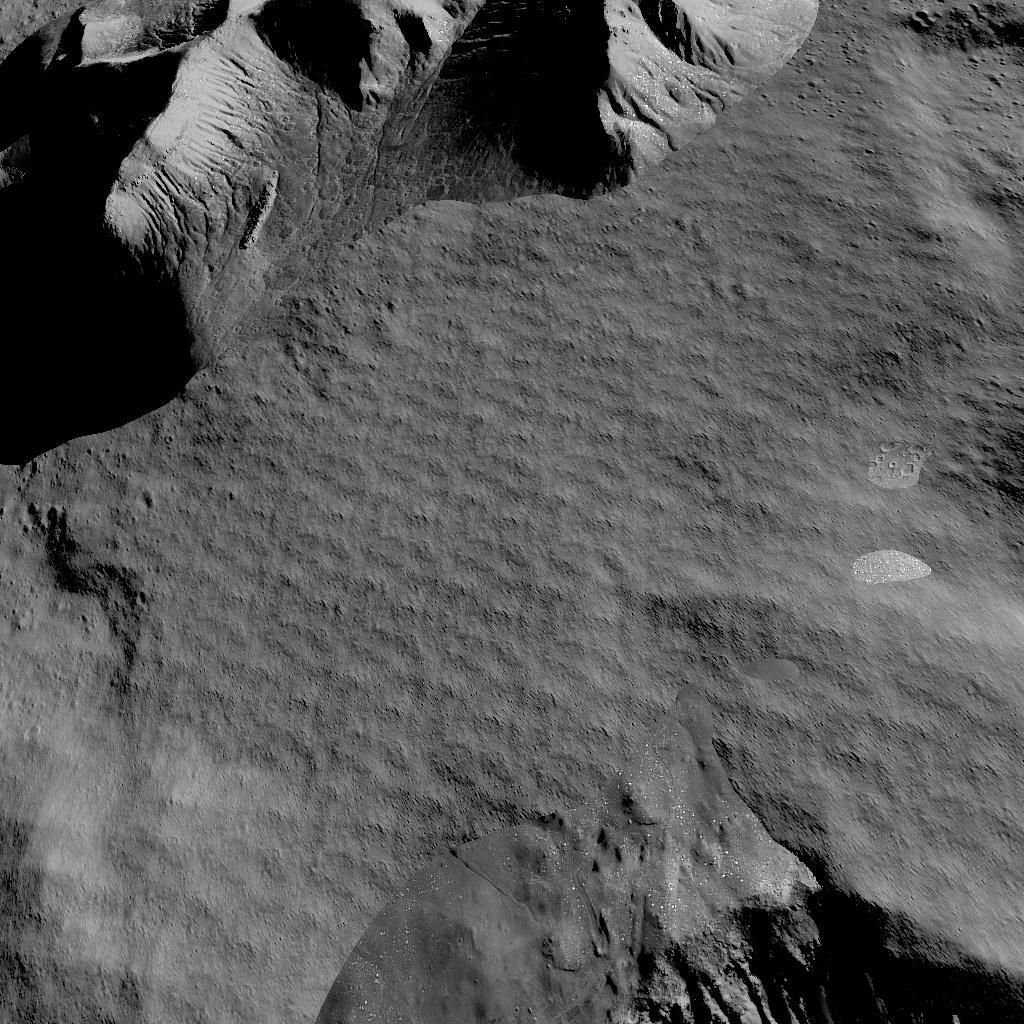Boulders: (0, 0, 813, 463)
Crater: (318, 822, 1024, 1024), (953, 392, 1024, 540), (883, 0, 1024, 65)
Plan surface: (324, 480, 940, 810), (0, 475, 306, 1024), (828, 78, 1024, 382)
